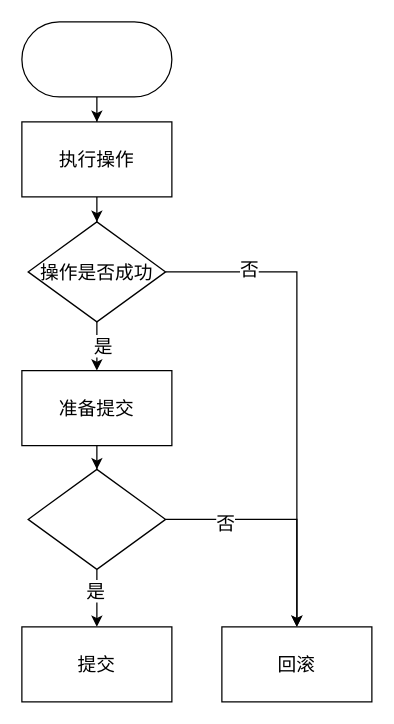
Some shapes in this 394 by 724 pixel diagram are drawn without their labels. Here are the shapes that lost their labels. From the top down, the centre of each, then its label:
At (96,59): "开始".
At (96,518): "检查所有操作 是否成功".
